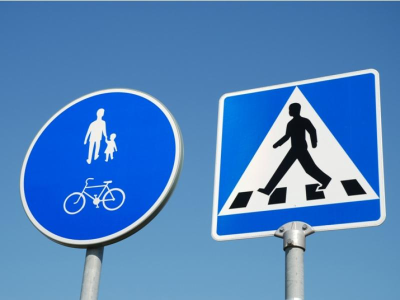crosswalk: (219, 87, 373, 217)
